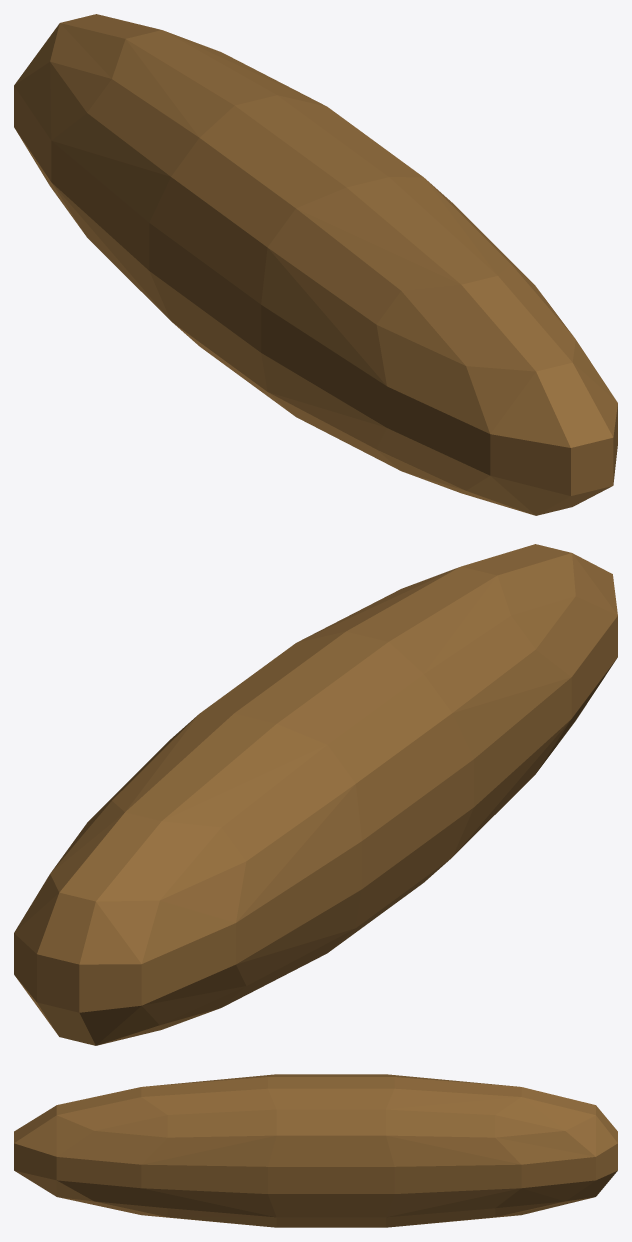
The model's file is bullet2.obj.
The picture shows the model from 3 angles, top to bottom: view 1: azimuth 30°, elevation 25°; view 2: azimuth 150°, elevation 25°; view 3: azimuth 270°, elevation 25°; orthographic projection. The views are drawn at different scales.
Visible parts, largest first — view 1: cube10; view 2: cube10; view 3: cube10.
Part boxes in pixels (x1=…): cube10: x1=14, y1=14, x2=617, y2=515; cube10: x1=14, y1=544, x2=617, y2=1045; cube10: x1=14, y1=1074, x2=617, y2=1227.
Size of the model in its own units: 1.95 by 2.11 by 8.46.
Materials: 1 (1 with a texture image).
